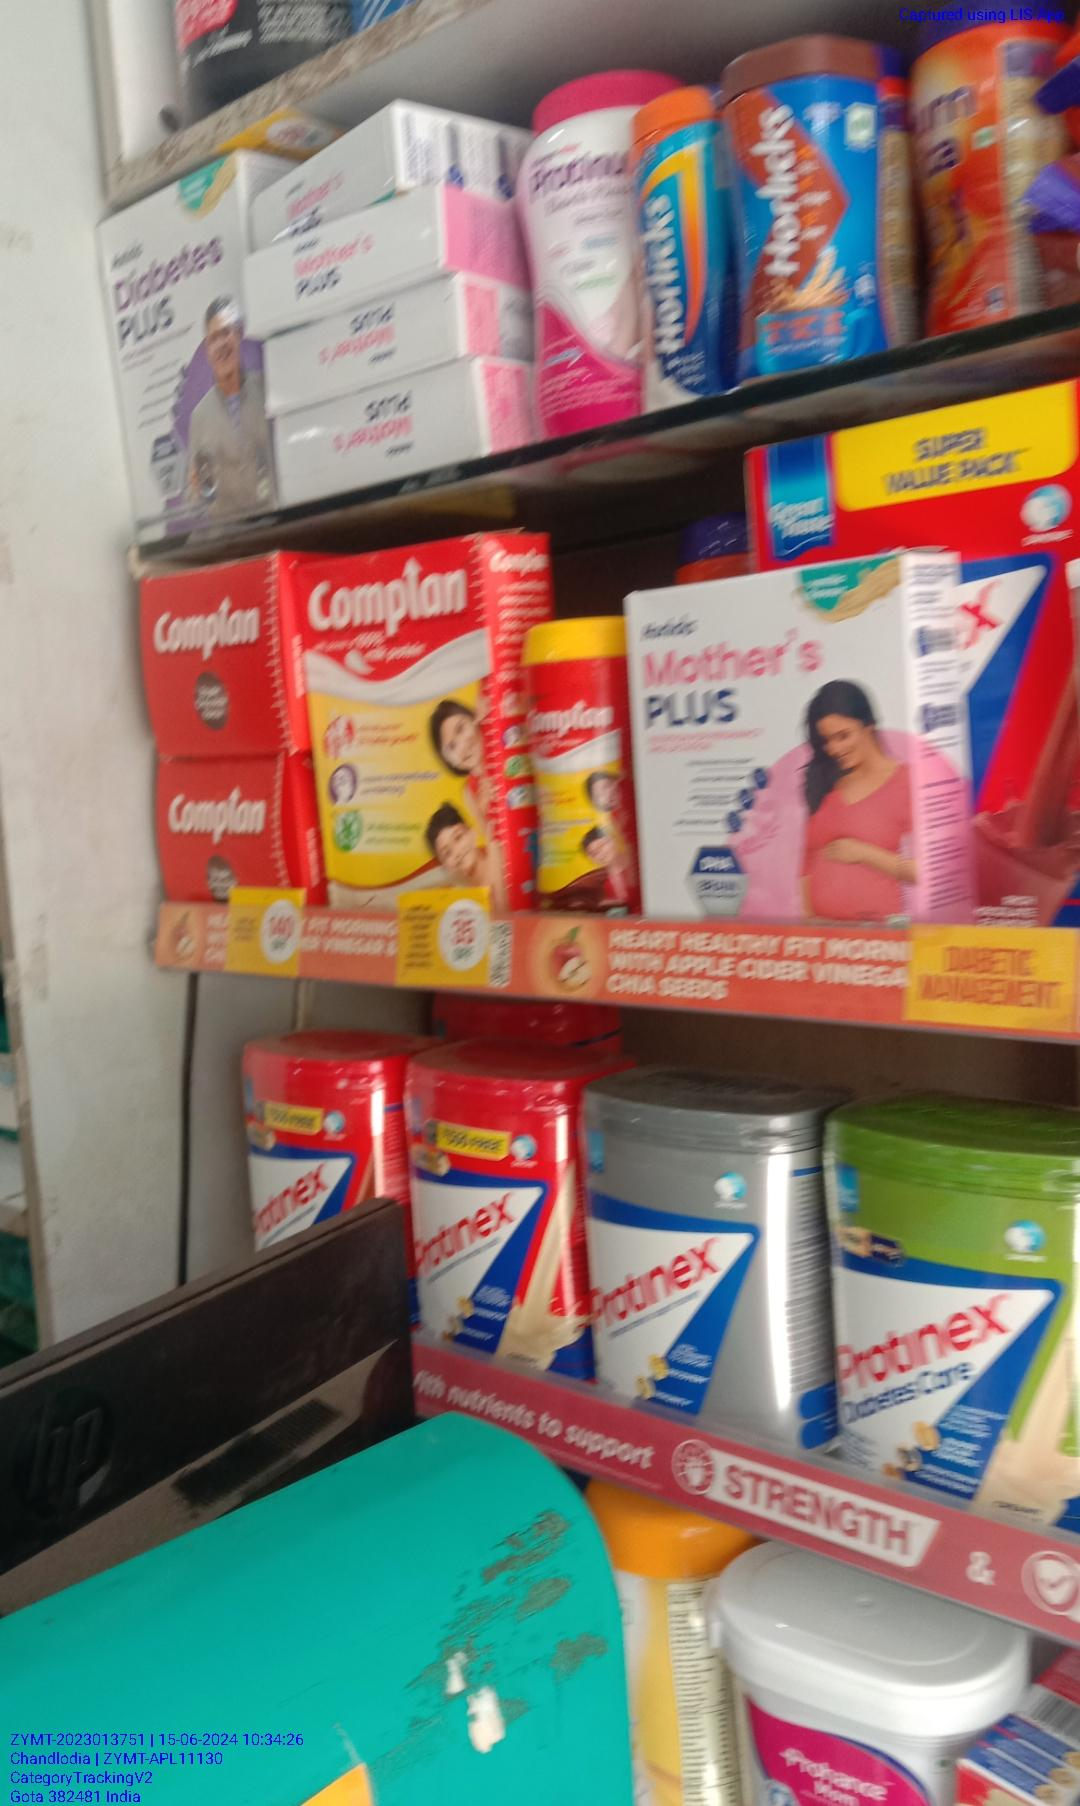COMPLAN_CHOCOLATE_500_GMS_JAR: (521, 620, 627, 904)
COMPLAN_KESAR_BADAM_500_GMS_PACK: (307, 536, 492, 881)
PROTINEX_ORIGINAL_400_G_JAR: (591, 1098, 806, 1449)
PROTINEX_VANILLA_400_G_JAR: (414, 1058, 580, 1364)
